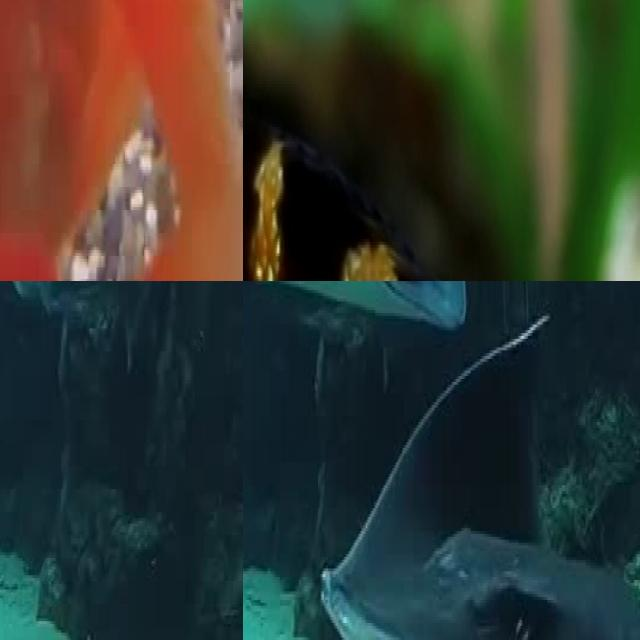fish: (0, 0, 243, 281), (511, 0, 597, 281)
